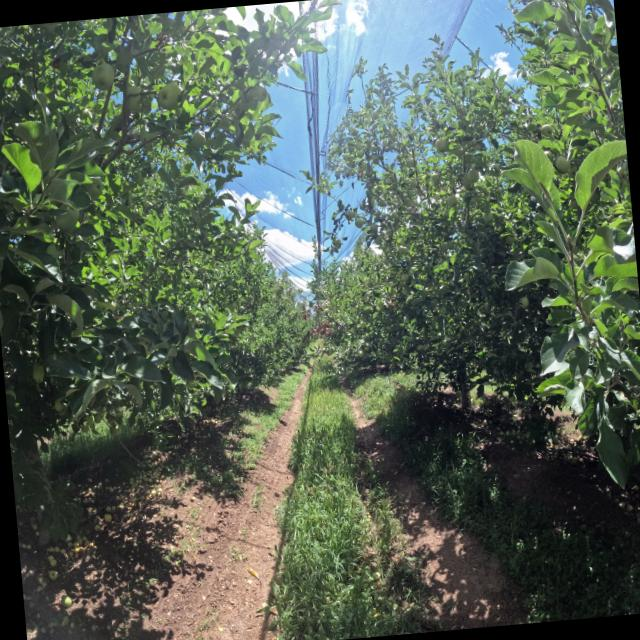-FireBlight-: (305, 320, 332, 338), (300, 305, 312, 321), (314, 304, 324, 312)
